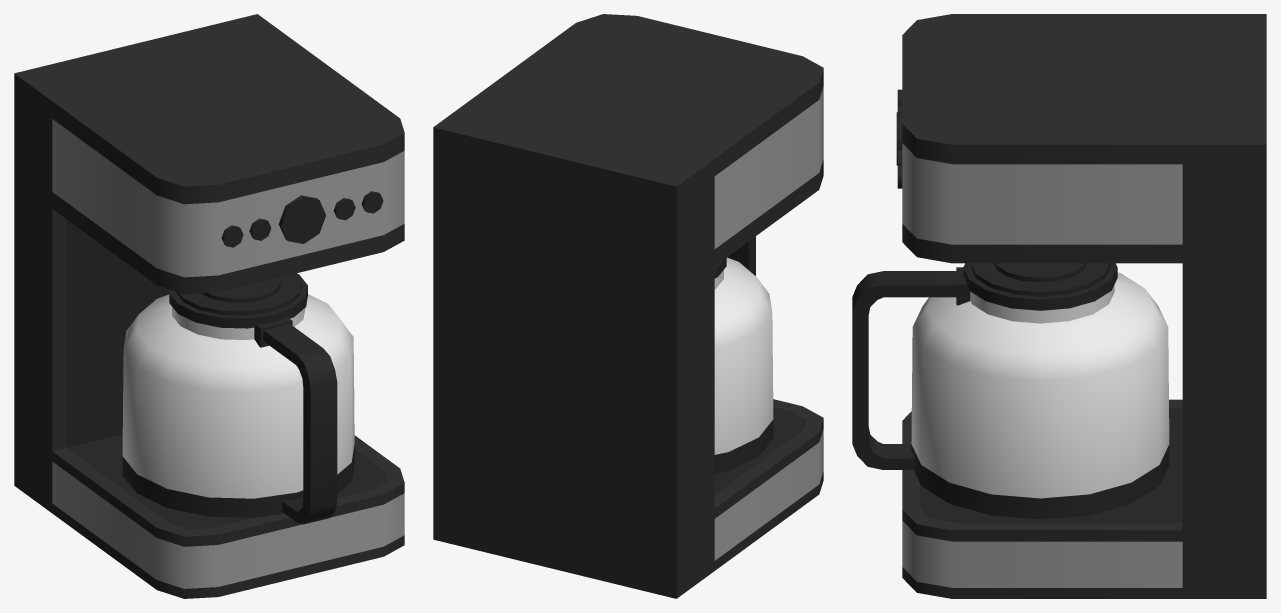
Rendered from CoffeeMachine_01.fbx.
3 views of the same model, side by side, from view 1: azimuth 30°, elevation 25°; view 2: azimuth 150°, elevation 25°; view 3: azimuth 270°, elevation 25° (orthographic). The views are drawn at different scales.
Parts seen in each view (by area): view 1: CoffeeMachine_01, CoffeeMachine_01_Glass, CoffeeMachine_01_Glass_Lid; view 2: CoffeeMachine_01, CoffeeMachine_01_Glass; view 3: CoffeeMachine_01, CoffeeMachine_01_Glass, CoffeeMachine_01_Glass_Lid.
Part boxes in pixels (x1=…): CoffeeMachine_01: x1=14, y1=14, x2=404, y2=598; CoffeeMachine_01_Glass: x1=122, y1=294, x2=354, y2=524; CoffeeMachine_01_Glass_Lid: x1=169, y1=273, x2=307, y2=328; CoffeeMachine_01: x1=433, y1=14, x2=823, y2=598; CoffeeMachine_01_Glass: x1=714, y1=236, x2=773, y2=473; CoffeeMachine_01: x1=896, y1=14, x2=1266, y2=598; CoffeeMachine_01_Glass: x1=852, y1=267, x2=1169, y2=519; CoffeeMachine_01_Glass_Lid: x1=963, y1=263, x2=1117, y2=310.
Bounding box in the file's own units: 0.2215 × 0.3585 × 0.2963.
